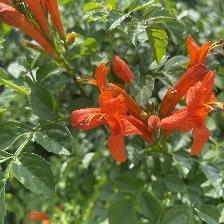honeysuckle: (78, 86, 150, 159), (163, 72, 224, 155)
